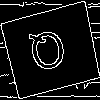Q: (26, 25, 71, 82)
